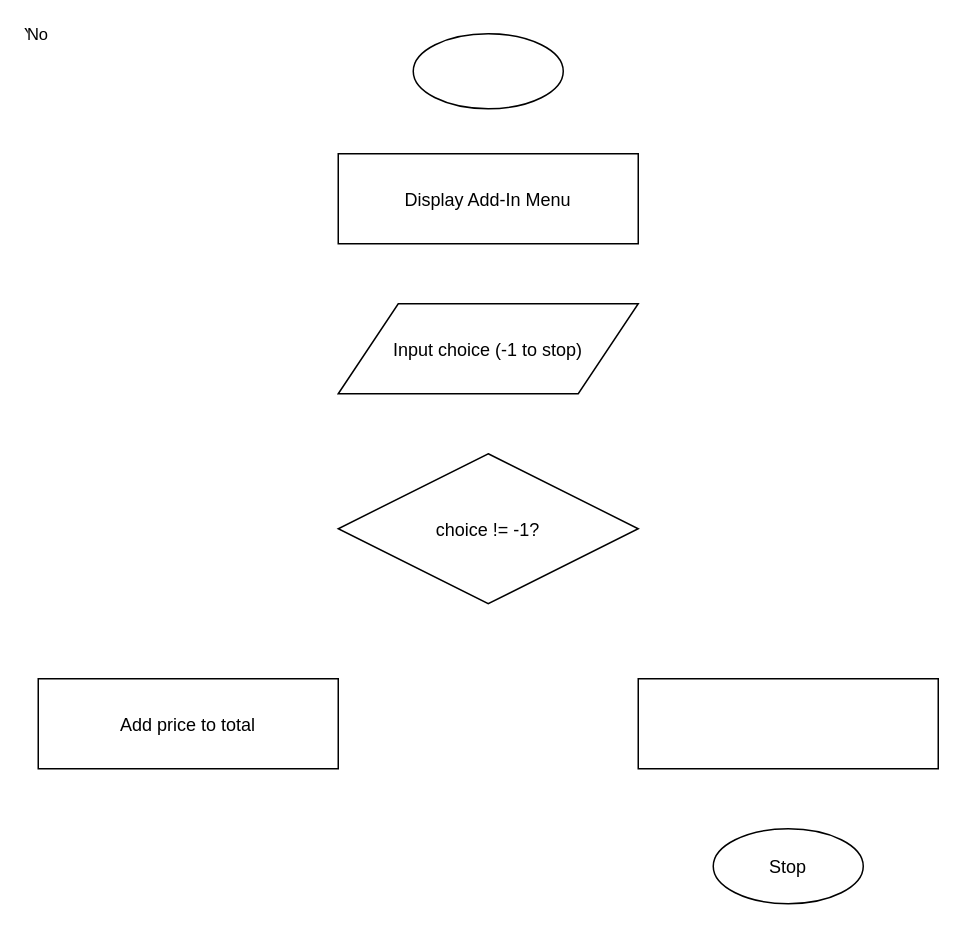
Image size: 963x929. Some labels were removed from this diagram. Here are the shapes that lost their labels. From the top down, the centre of each, then its label:
At (x=487, y=70): "Start".
At (x=787, y=723): "Display Total".
